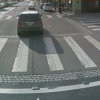crosswalk: (0, 35, 99, 71)
